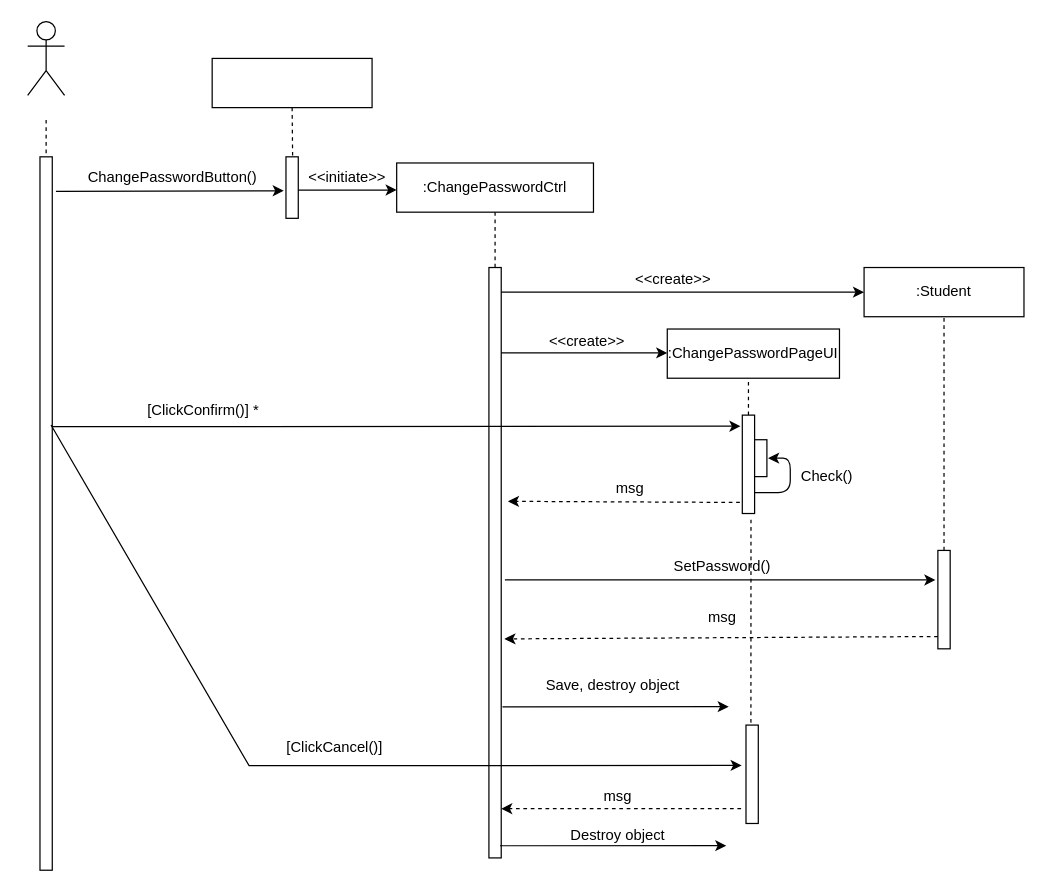
Some shapes in this 1046 by 892 pixel diagram are drawn without their labels. Each missing label, with the centre of its shape:
:StudentMainPageUI: the point at 291,82
Student: the point at 45,57
